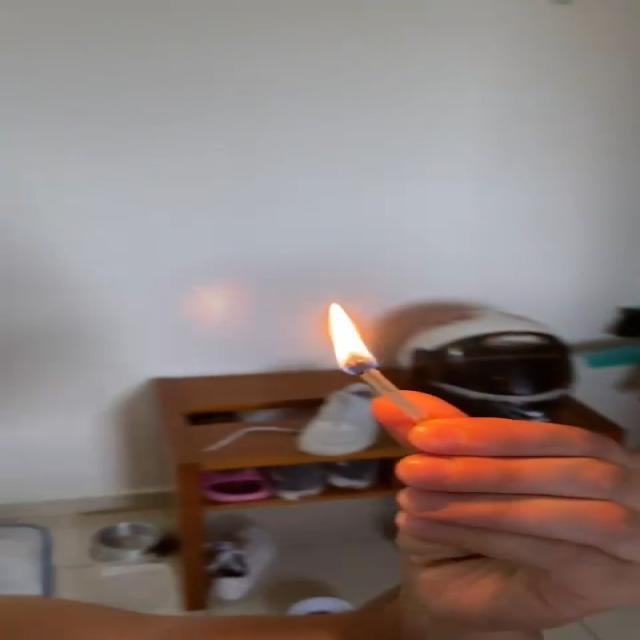fire: (320, 294, 381, 379)
